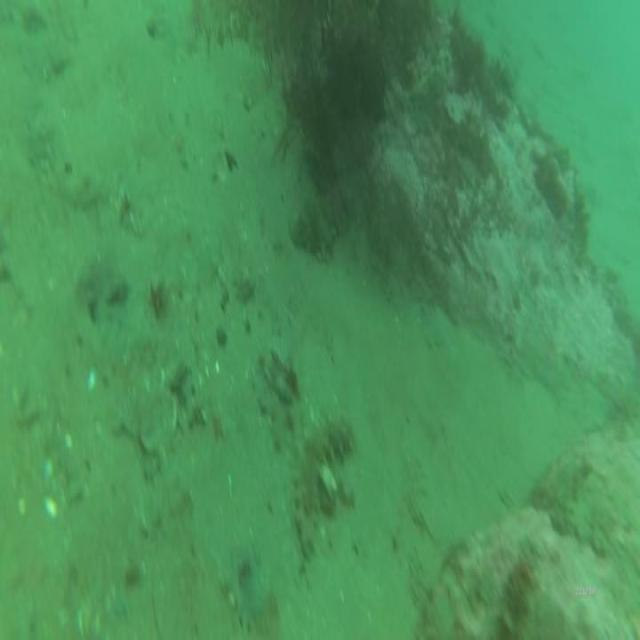holothurian: (292, 401, 356, 555)
waterweeds: (191, 0, 437, 198)
